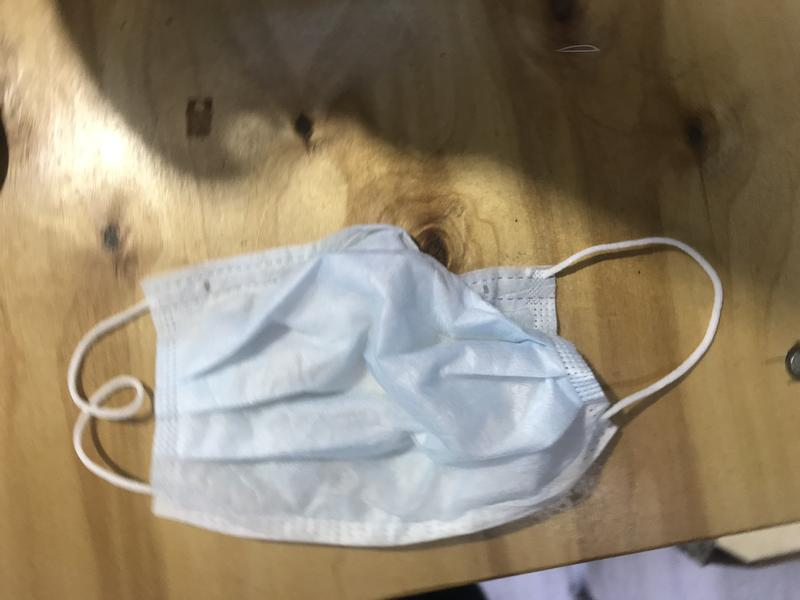medical_mask: (67, 224, 723, 547)
